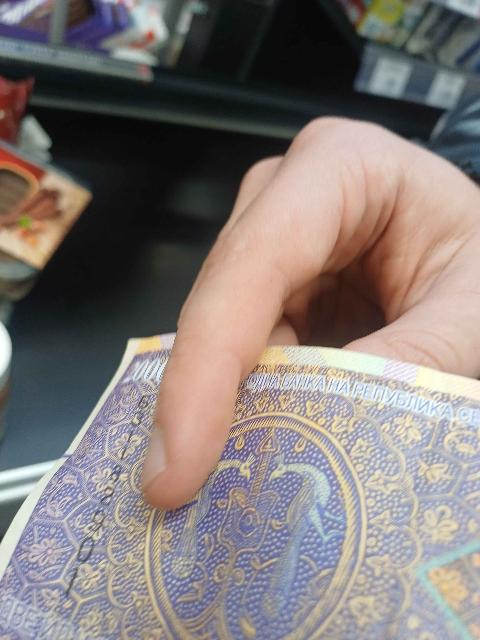note: (0, 328, 479, 639)
